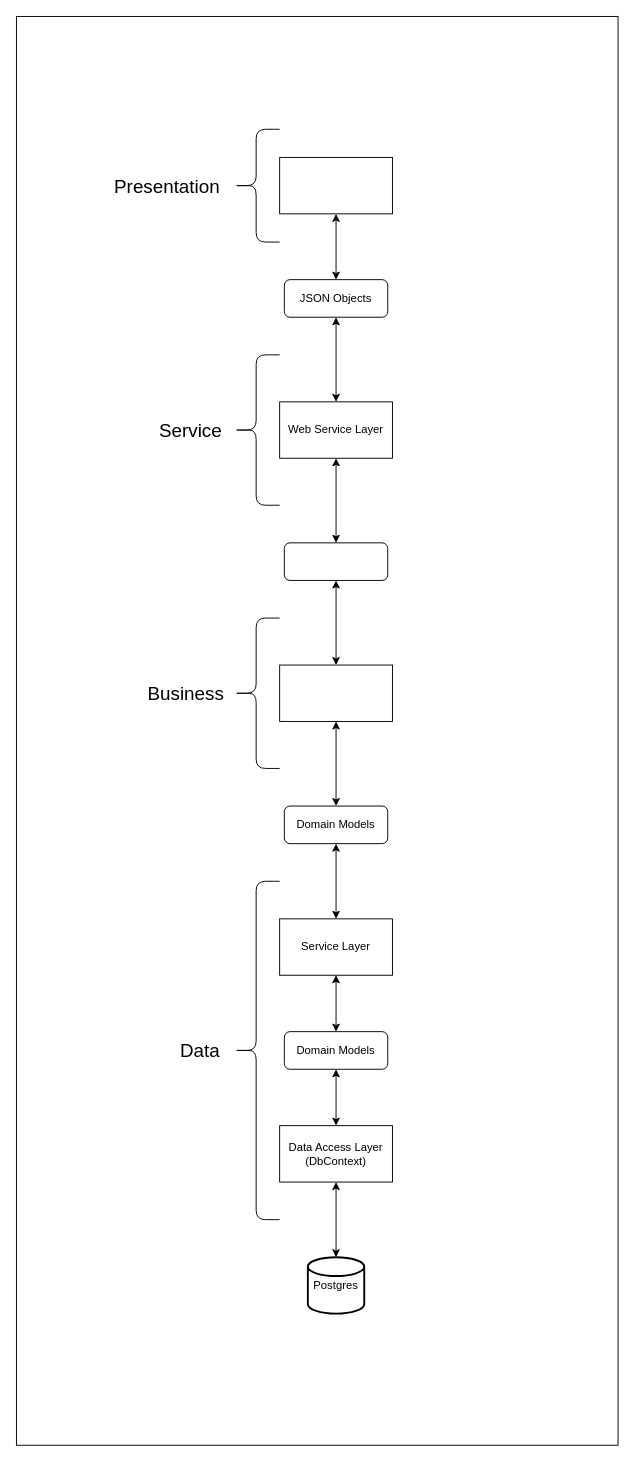
The diagram is 635 pixels wide and 1462 high, and some of its shapes have lost their labels. Here are the shapes that lost their labels. From the top down, the centre of each, then its label:
At point (335, 185): "Clients".
At point (335, 561): "Data Transfer Objects".
At point (335, 692): "Business Layer".
